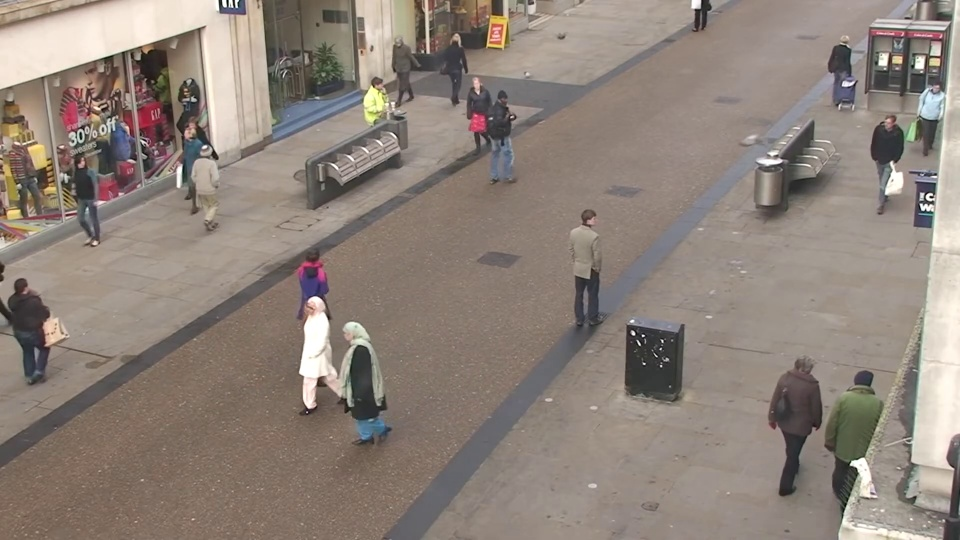pedestrian: (826, 354, 887, 515), (776, 340, 833, 495), (10, 266, 74, 399), (318, 316, 371, 463), (281, 290, 334, 430), (299, 238, 346, 365), (53, 156, 102, 260), (569, 204, 607, 325), (906, 81, 951, 173), (863, 113, 905, 211), (166, 128, 206, 225), (196, 137, 235, 236), (172, 113, 210, 206), (493, 88, 523, 177), (364, 74, 395, 158), (459, 75, 489, 160), (827, 32, 859, 108), (381, 34, 408, 107), (449, 28, 474, 99)
